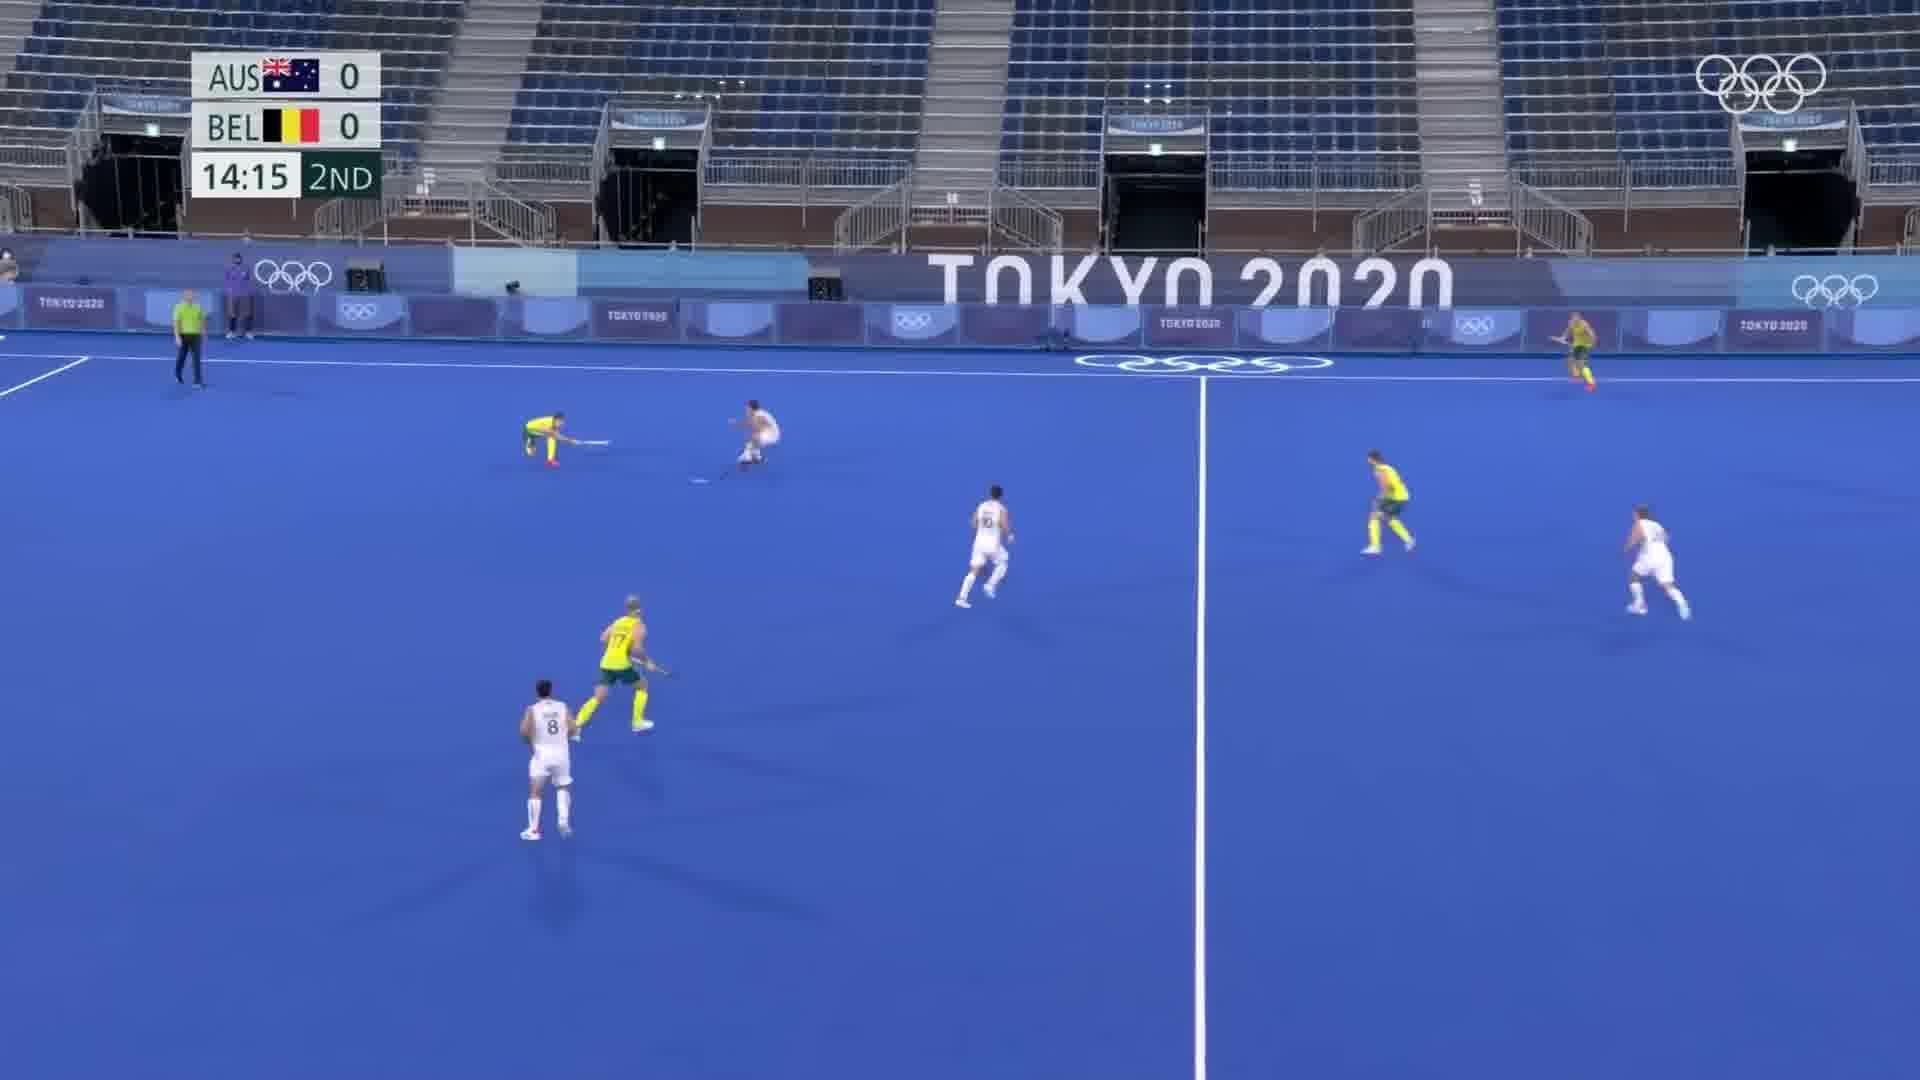ball: (684, 473, 715, 487)
